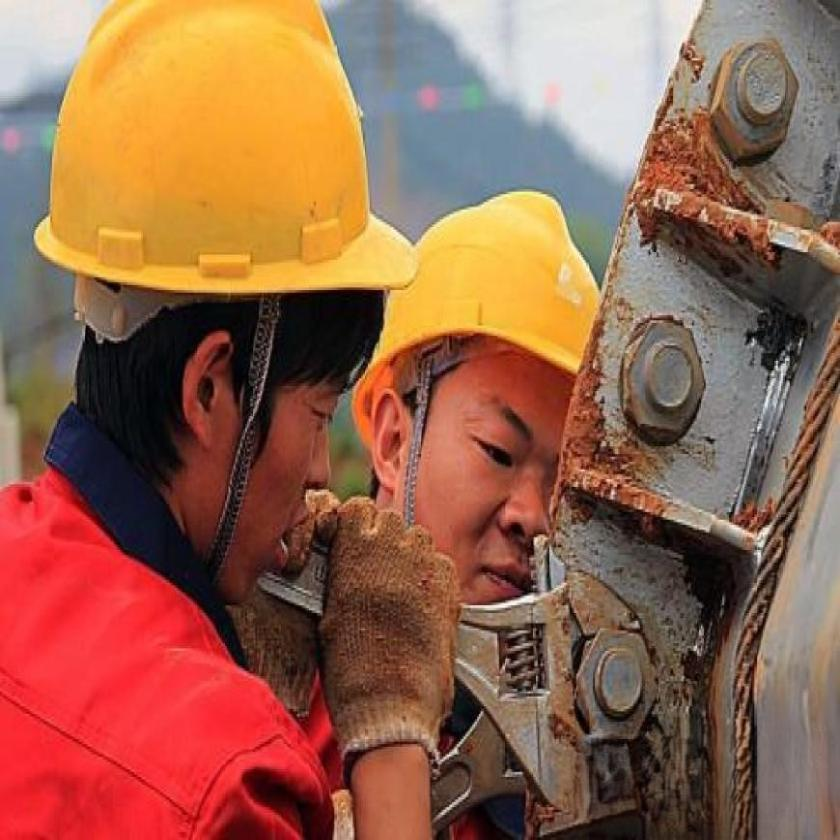Con_casco: (35, 0, 421, 639), (347, 181, 607, 637)
